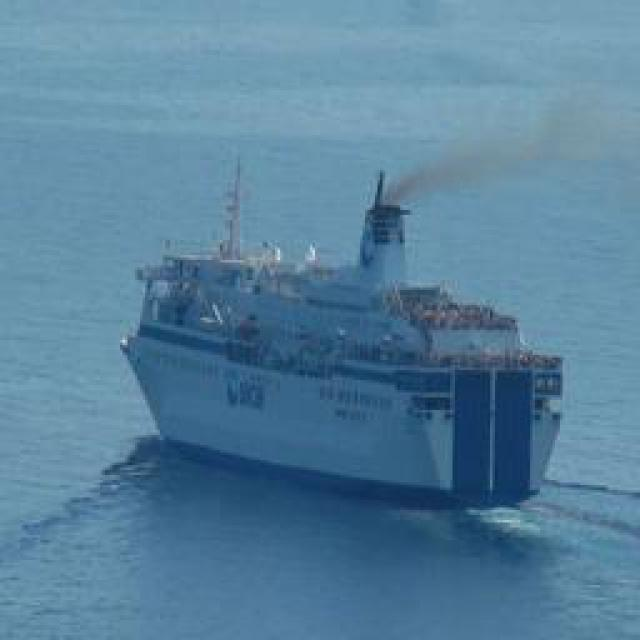Ship: (125, 163, 573, 498)
